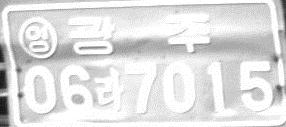0: (161, 61, 196, 114), (21, 64, 58, 114)
1: (199, 60, 235, 113)
5: (238, 58, 273, 112)
6: (58, 63, 93, 113)
7: (124, 63, 157, 113)
광주_D: (66, 12, 211, 56)
라: (93, 68, 123, 111)
영: (18, 16, 59, 60)
